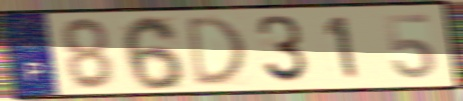1: (321, 14, 360, 82)
3: (253, 13, 311, 86)
5: (382, 11, 438, 81)
6: (119, 12, 188, 92)
8: (59, 16, 118, 93)
D: (184, 13, 248, 89)
